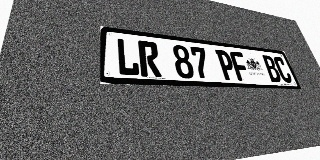7: (189, 46, 212, 79)
8: (171, 44, 195, 79)
B: (261, 55, 283, 83)
C: (272, 56, 294, 83)
F: (229, 51, 252, 81)
L: (116, 38, 140, 76)
P: (215, 49, 238, 81)
R: (138, 40, 162, 77)
